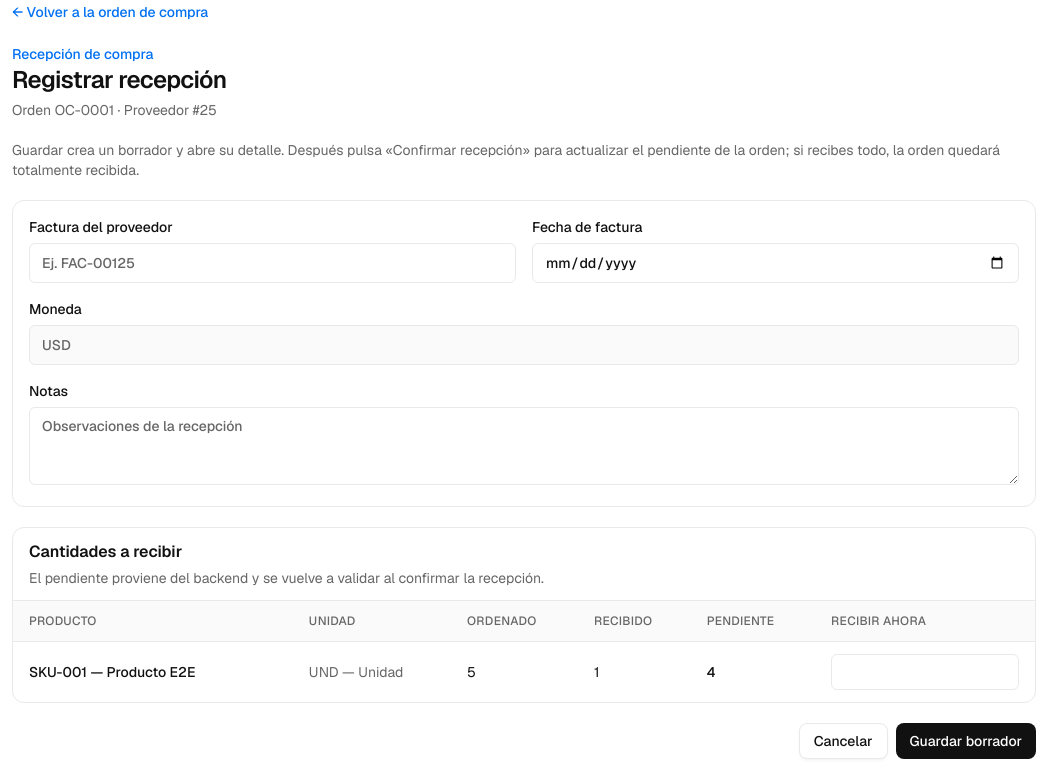
it: PurchaseReceivingEditor › requires at least one positive received quantity
Expected: the text "Orden OC-0001 · Proveedor #25" is shown, [12,101,217,119]
Click the button "Guardar borrador".
click(966, 741)  # box [896,723,1036,759]
(page scrolled)
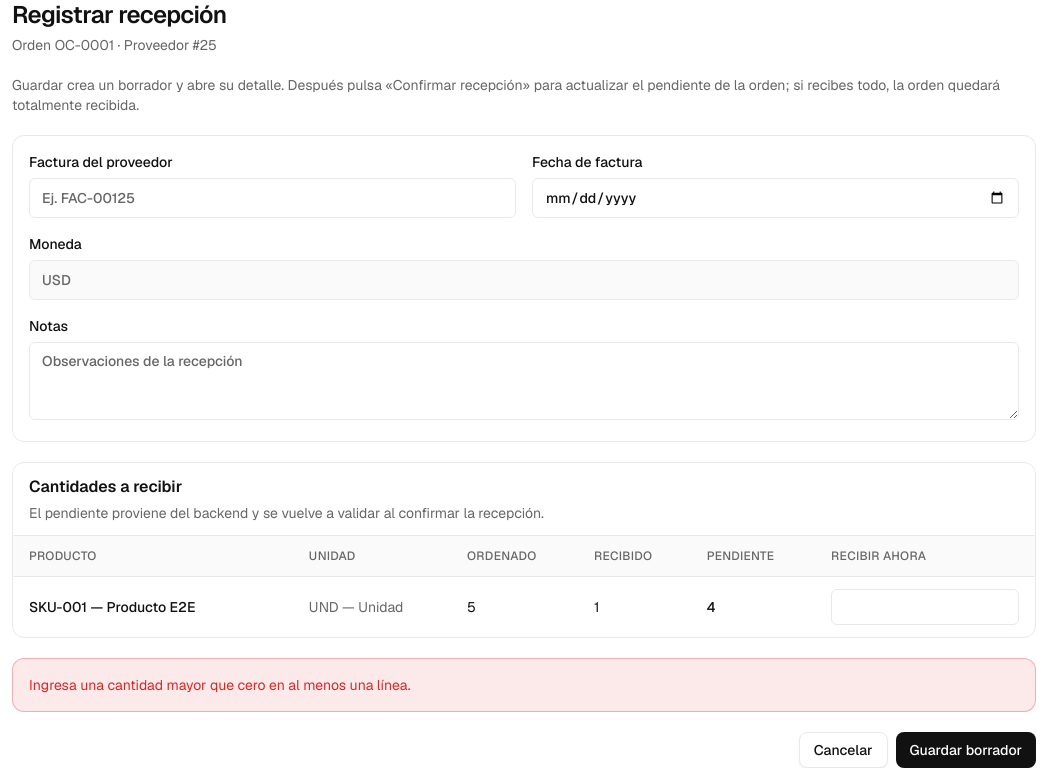
Result: the message "Ingresa una cantidad mayor que cero en al menos una línea." is shown at [12,658,1036,712]
